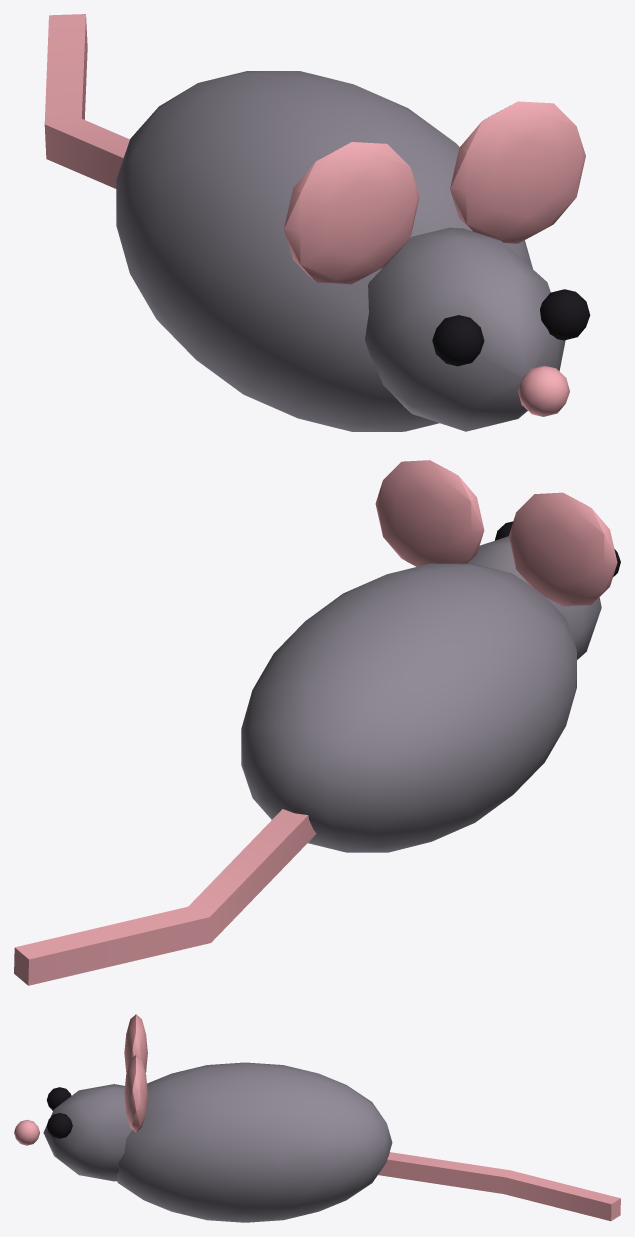
File: mouse.glb
3 renders of one model, top to bottom at view 1: azimuth 30°, elevation 25°; view 2: azimuth 150°, elevation 25°; view 3: azimuth 270°, elevation 25°, orthographic. The views are drawn at different scales.
Visible parts, largest first — view 1: mouse; view 2: mouse; view 3: mouse.
Part boxes in pixels (left/top/right/bottom): mouse: left=44, top=14, right=590, bottom=431; mouse: left=14, top=460, right=620, bottom=985; mouse: left=14, top=1014, right=620, bottom=1222.
Bounding box in the file's own units: 0.081 × 0.089 × 0.2783.
